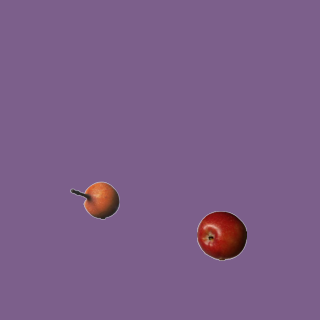Apple Braeburn: (196, 210, 246, 260)
Granadilla: (69, 175, 119, 225)
